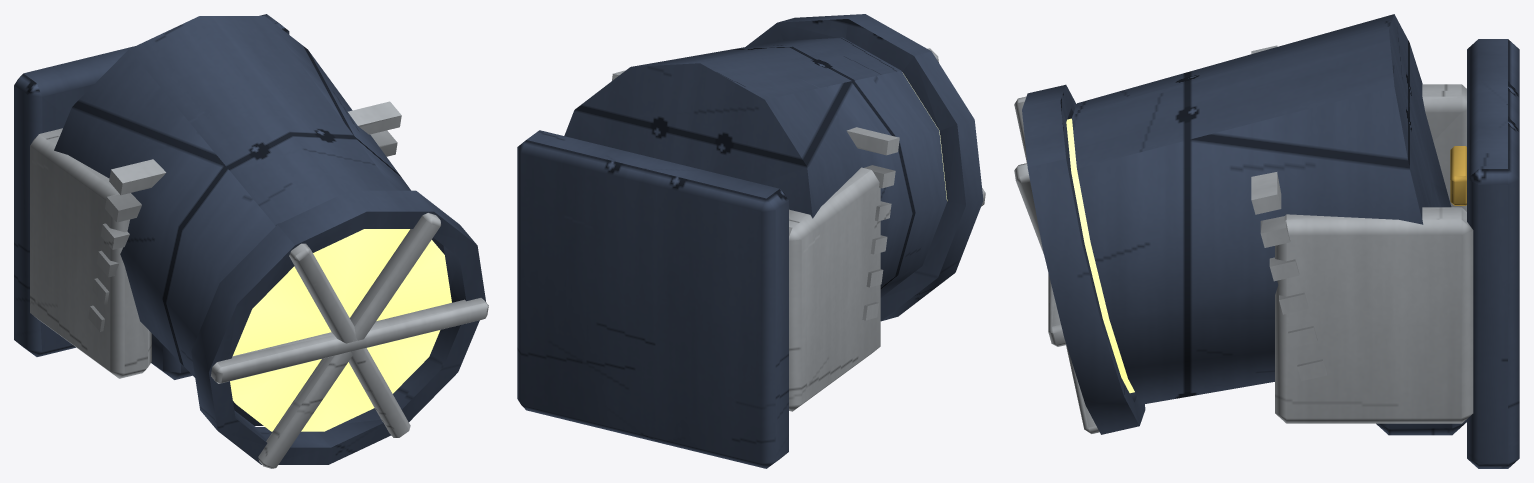
The model's file is wall_floodlight.glb.
3 renders of one model, left to right at view 1: azimuth 30°, elevation 25°; view 2: azimuth 150°, elevation 25°; view 3: azimuth 270°, elevation 25°, orthographic. The views are drawn at different scales.
Parts seen in each view (by area): view 1: DL020_WallFloodlight_graphite_navy, DL020_WallFloodlight_titanium, DL020_WallFloodlight_emissive_amber; view 2: DL020_WallFloodlight_graphite_navy, DL020_WallFloodlight_titanium; view 3: DL020_WallFloodlight_graphite_navy, DL020_WallFloodlight_titanium, DL020_WallFloodlight_emissive_amber, DL020_WallFloodlight_amber_accent.
Part boxes in pixels (<box>): DL020_WallFloodlight_graphite_navy: <box>14,14,485,464</box>; DL020_WallFloodlight_titanium: <box>30,101,488,468</box>; DL020_WallFloodlight_emissive_amber: <box>230,229,451,431</box>; DL020_WallFloodlight_graphite_navy: <box>517,14,983,468</box>; DL020_WallFloodlight_titanium: <box>612,48,985,411</box>; DL020_WallFloodlight_graphite_navy: <box>1022,14,1519,468</box>; DL020_WallFloodlight_titanium: <box>1014,45,1473,433</box>; DL020_WallFloodlight_emissive_amber: <box>1066,118,1134,393</box>; DL020_WallFloodlight_amber_accent: <box>1450,146,1466,205</box>.
Bounding box in the file's own units: 0.533 × 0.6532 × 0.7638.
Materials: 4 (3 with a texture image).
